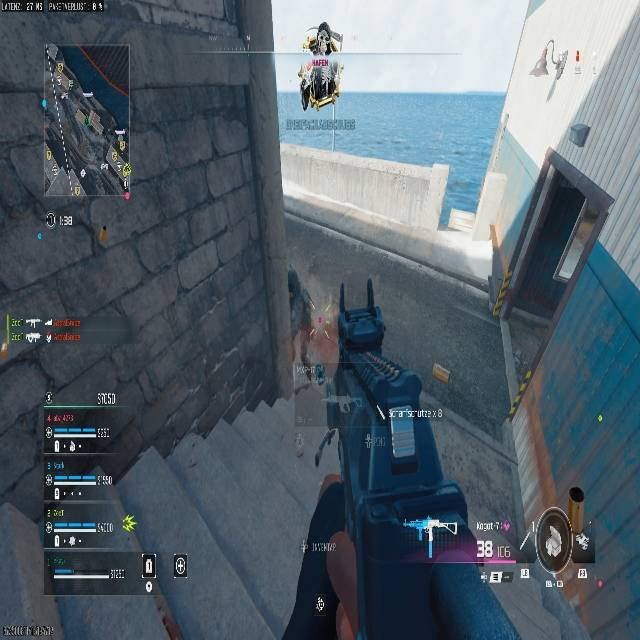head: (319, 22, 330, 34)
player: (298, 21, 342, 111)
